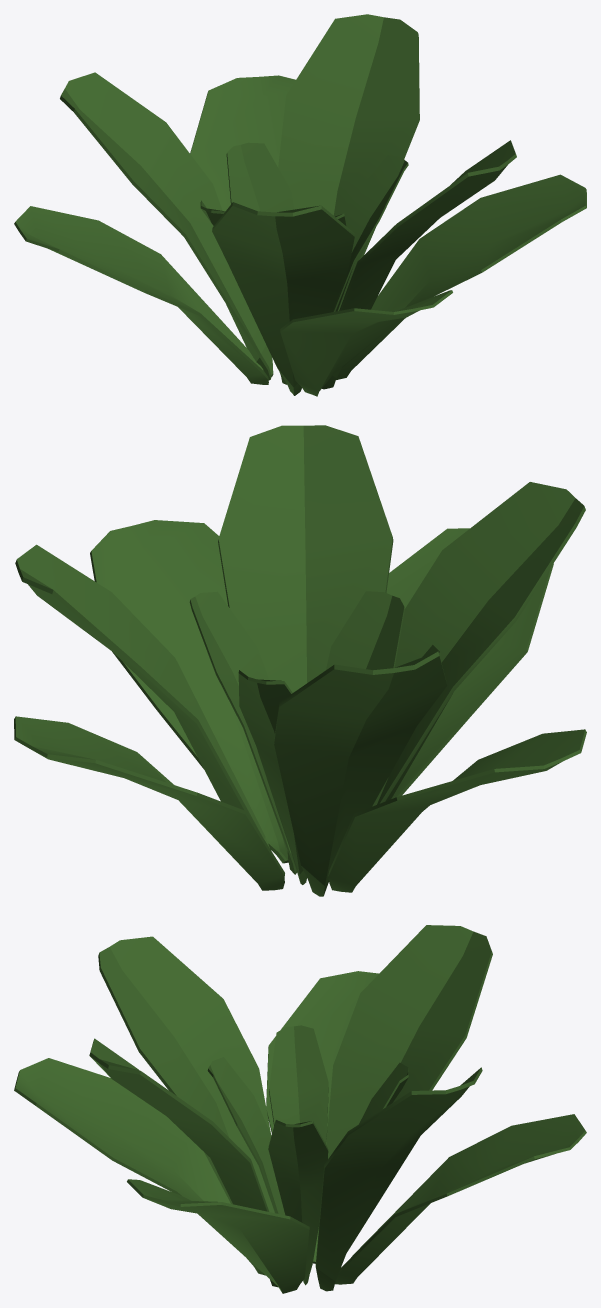
Rendered from Kale.fbx.
3 renders of one model, top to bottom at view 1: azimuth 30°, elevation 25°; view 2: azimuth 150°, elevation 25°; view 3: azimuth 270°, elevation 25°, orthographic. The views are drawn at different scales.
Parts seen in each view (by area): view 1: Kale.002; view 2: Kale.002; view 3: Kale.002.
Boxes of the visible parts, x1,y1,x2,y2 form: Kale.002: (14,14,586,396); Kale.002: (14,425,586,896); Kale.002: (14,925,586,1293).
Bounding box in the file's own units: 5.62 × 3.09 × 5.82.
